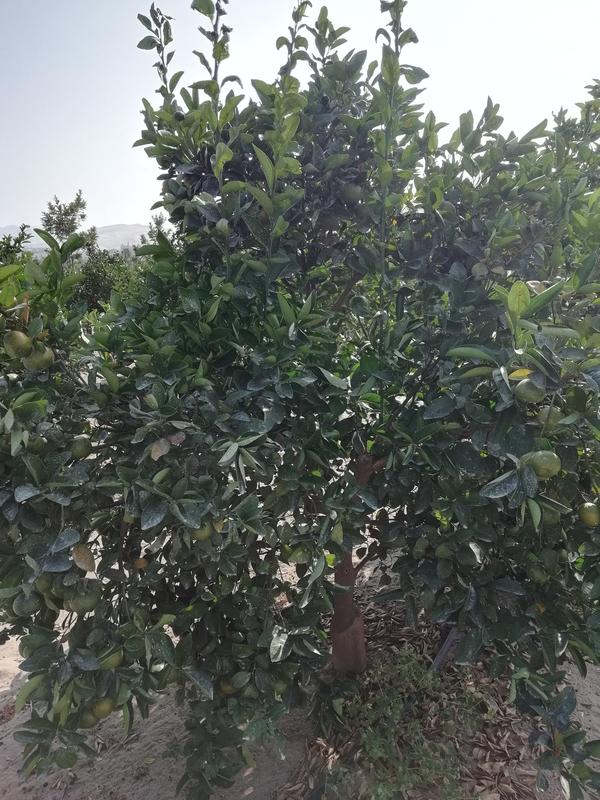mandarina verde: (23, 340, 57, 373), (3, 329, 32, 360), (531, 449, 562, 478), (68, 587, 98, 614), (515, 379, 547, 403), (14, 592, 42, 617), (76, 704, 102, 730), (66, 435, 93, 460), (340, 180, 363, 206), (577, 502, 600, 527), (92, 695, 114, 718)
